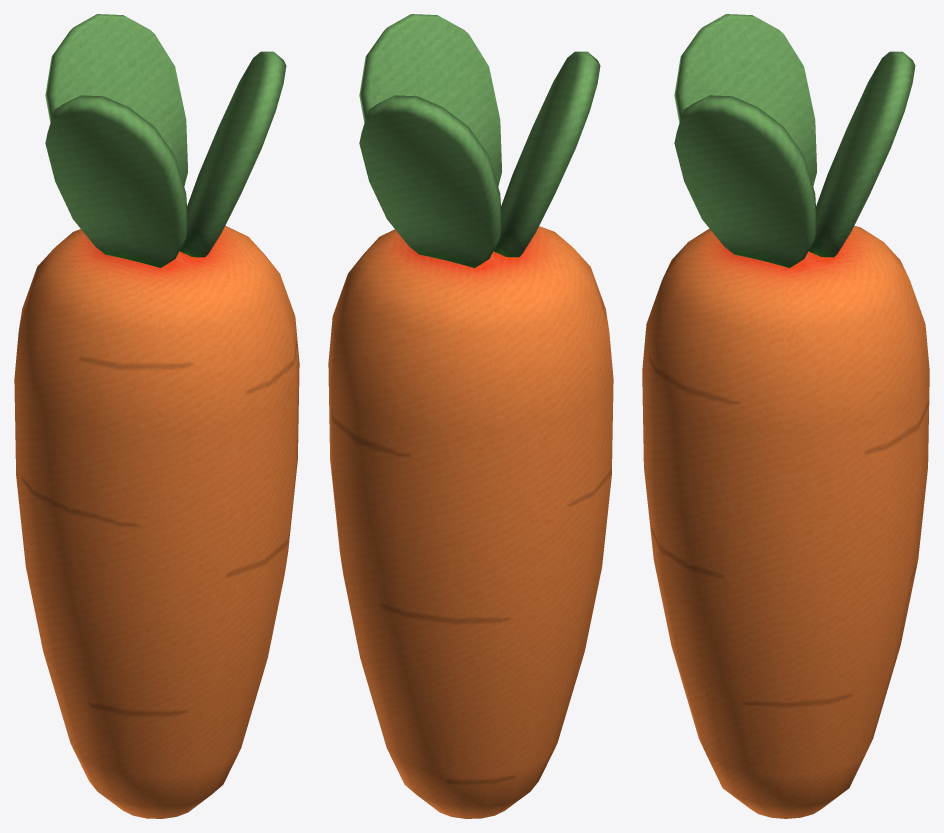
Rendered from carrot_01.fbx.
3 views of the same model, side by side, from view 1: azimuth 30°, elevation 25°; view 2: azimuth 150°, elevation 25°; view 3: azimuth 270°, elevation 25° (orthographic).
Parts seen in each view (by area): view 1: carrot_01; view 2: carrot_01; view 3: carrot_01.
Part boxes in pixels (x1,y1,x2,y2): carrot_01: (14, 14, 299, 818); carrot_01: (328, 14, 613, 818); carrot_01: (642, 14, 929, 818).
Bounding box in the file's own units: 0.3192 × 0.9308 × 0.3192.
